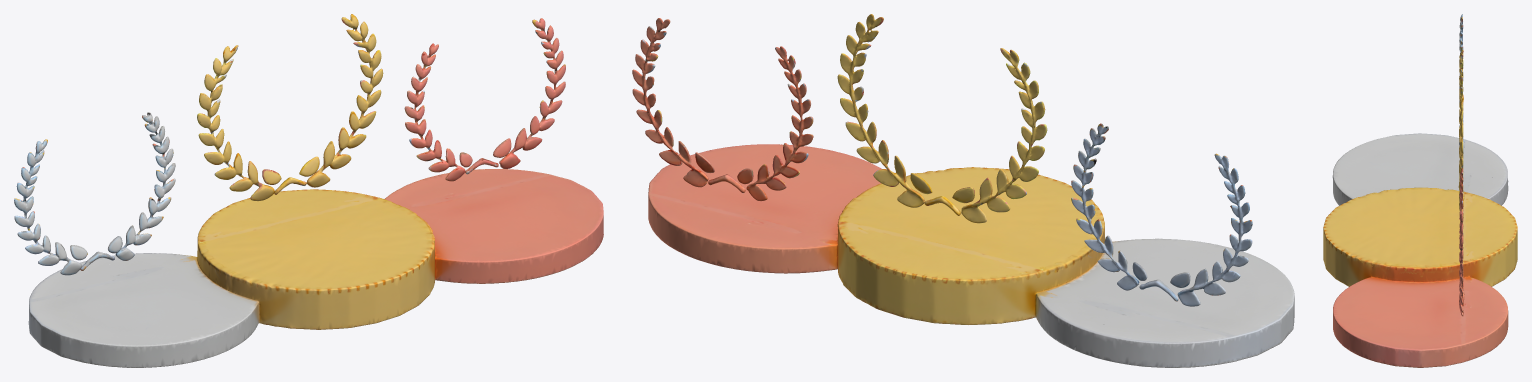
File: Victory_Podium.fbx
3 renders of one model, left to right at view 1: azimuth 30°, elevation 25°; view 2: azimuth 150°, elevation 25°; view 3: azimuth 270°, elevation 25°, orthographic. The views are drawn at different scales.
Visible parts, largest first — view 1: Mesh_0; view 2: Mesh_0; view 3: Mesh_0.
Part boxes in pixels (x1,y1,x2,y2): Mesh_0: (14, 14, 603, 367); Mesh_0: (632, 14, 1294, 367); Mesh_0: (1323, 14, 1517, 367).
Size of the model in its own units: 190 by 75.99 by 71.78.
Materials: 1 (1 with a texture image).
